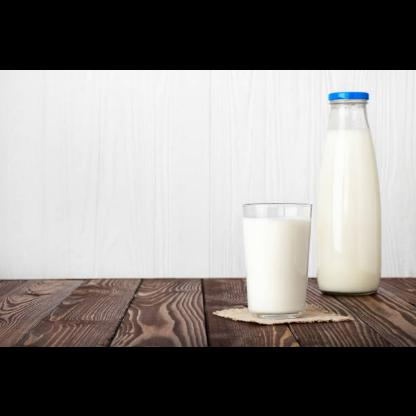milk: (316, 126, 382, 292), (242, 214, 310, 316)
